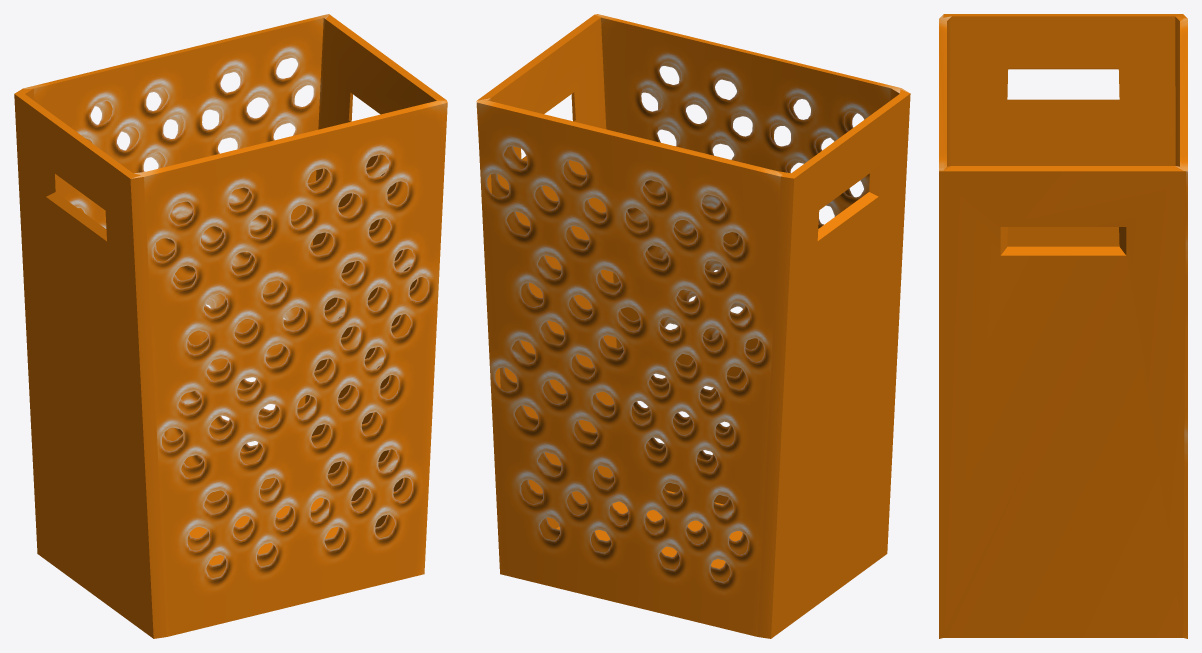
Rendered from Hamper_E.FBX.
3 views of the same model, side by side, from view 1: azimuth 30°, elevation 25°; view 2: azimuth 150°, elevation 25°; view 3: azimuth 270°, elevation 25° (orthographic). The views are drawn at different scales.
Parts seen in each view (by area): view 1: Hamper; view 2: Hamper; view 3: Hamper.
Part boxes in pixels (x1,y1,x2,y2): Hamper: (14,14,447,638); Hamper: (476,14,910,638); Hamper: (939,14,1187,638).
Bounding box in the file's own units: 105 × 148 × 69.41.
